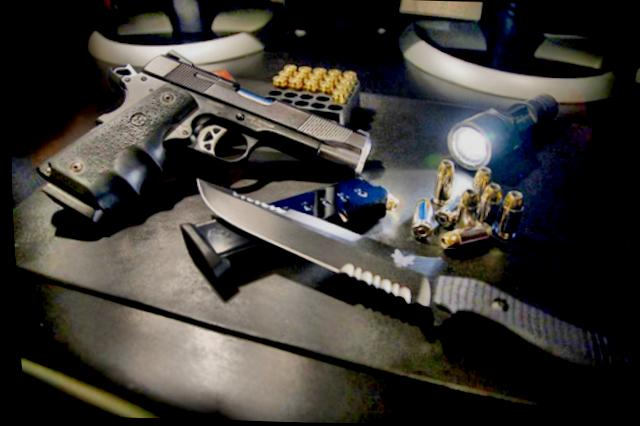pistol: (29, 41, 378, 223)
